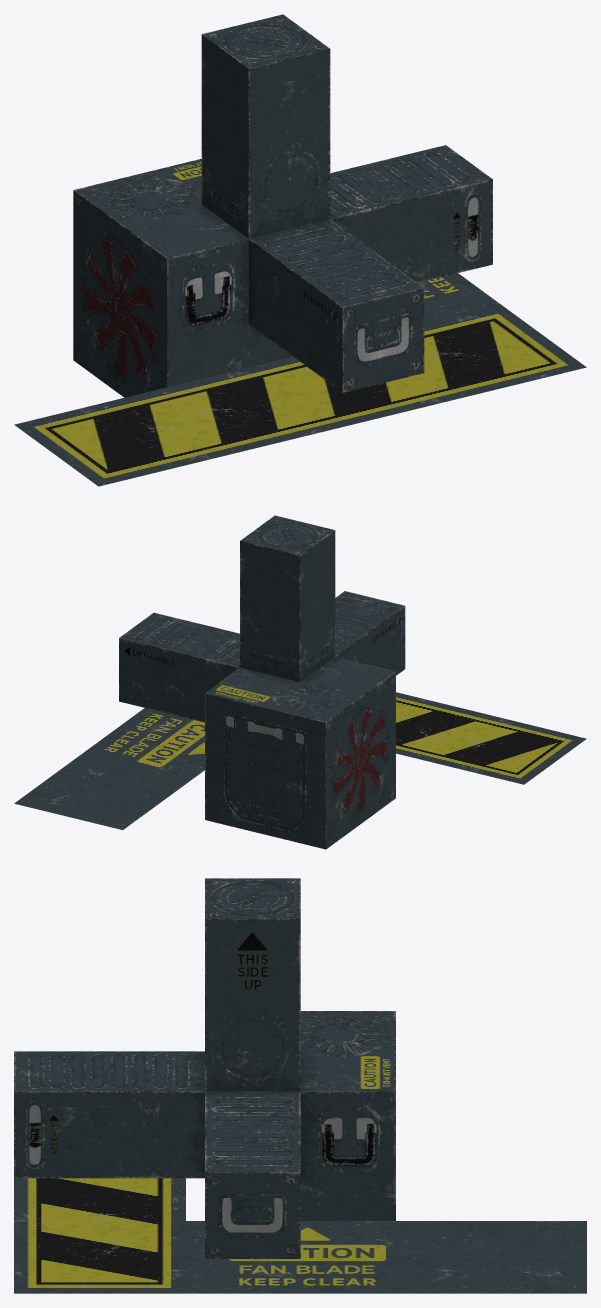
Rendered from Node_Attribute_05.gltf.
The picture shows the model from 3 angles, top to bottom: view 1: azimuth 30°, elevation 25°; view 2: azimuth 150°, elevation 25°; view 3: azimuth 270°, elevation 25°; orthographic projection. The views are drawn at different scales.
Visible parts, largest first — view 1: Node1, Node0; view 2: Node1, Node0; view 3: Node1, Node0.
Boxes of the visible parts, x1,y1,x2,y2 form: Node1: (73,14,492,397); Node0: (14,273,586,486); Node1: (119,515,405,849); Node0: (14,692,586,829); Node1: (14,878,395,1258); Node0: (14,1178,586,1293).
Size of the model in its own units: 15 by 10 by 15.
Materials: 2 (2 with a texture image).
